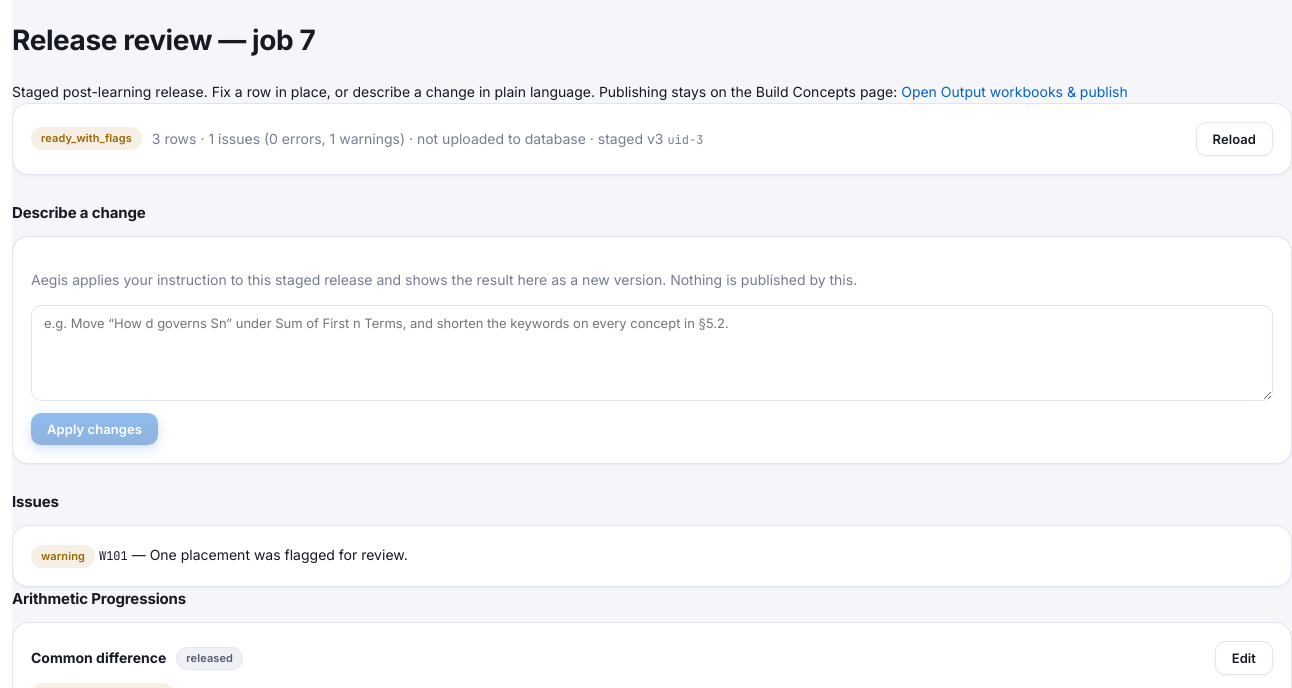
Test: a failed instruction round shows the detail and keeps the text
Replace the text in the text box with test id "instruction-box" with "Shorten every keyword list." at [652, 352], box x1=31 y1=304 x2=1273 y2=400
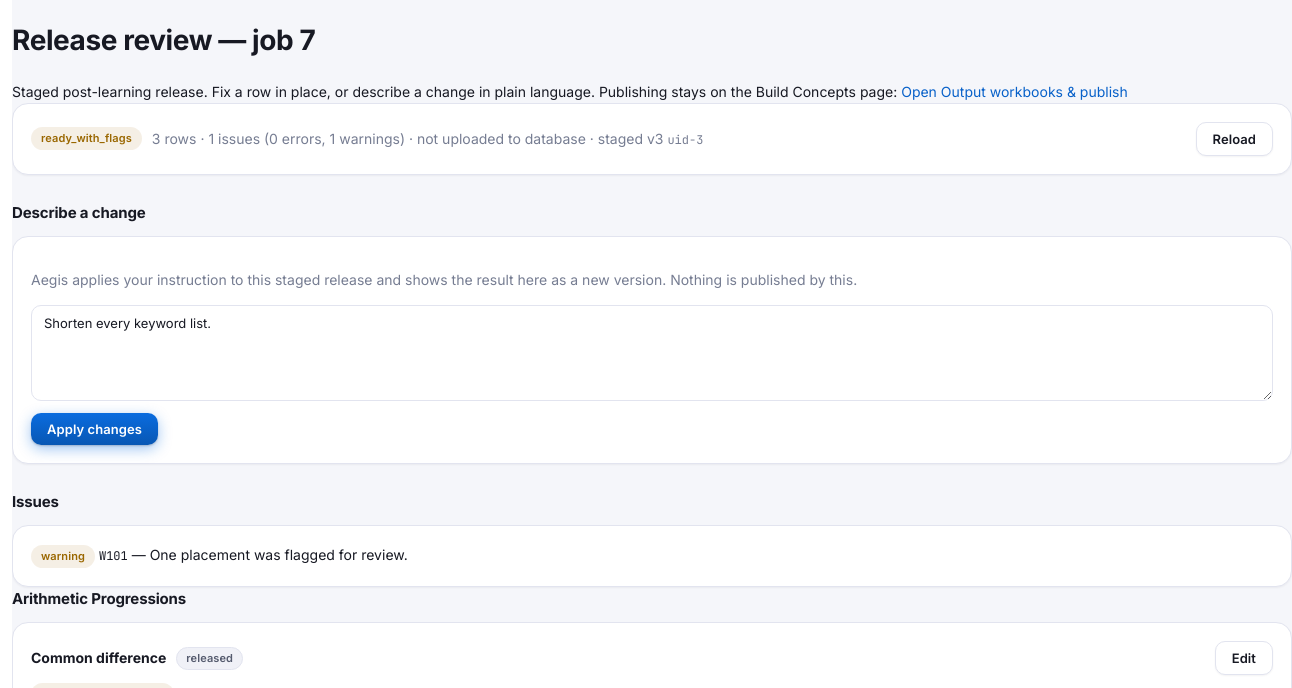
Click the button with test id "apply-instruction" at [94, 428], box x1=31 y1=412 x2=158 y2=444
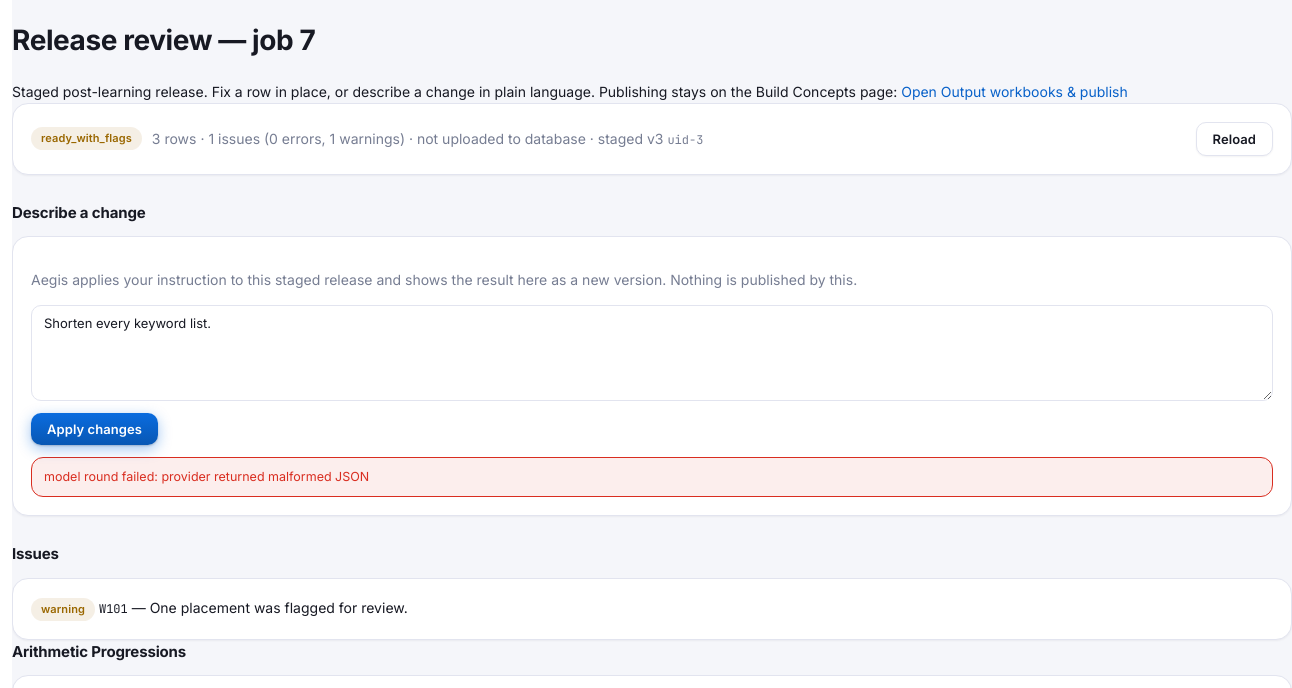
Expected: the text "model round failed: provider returned malformed JSON" is shown, x1=31 y1=456 x2=1273 y2=497
